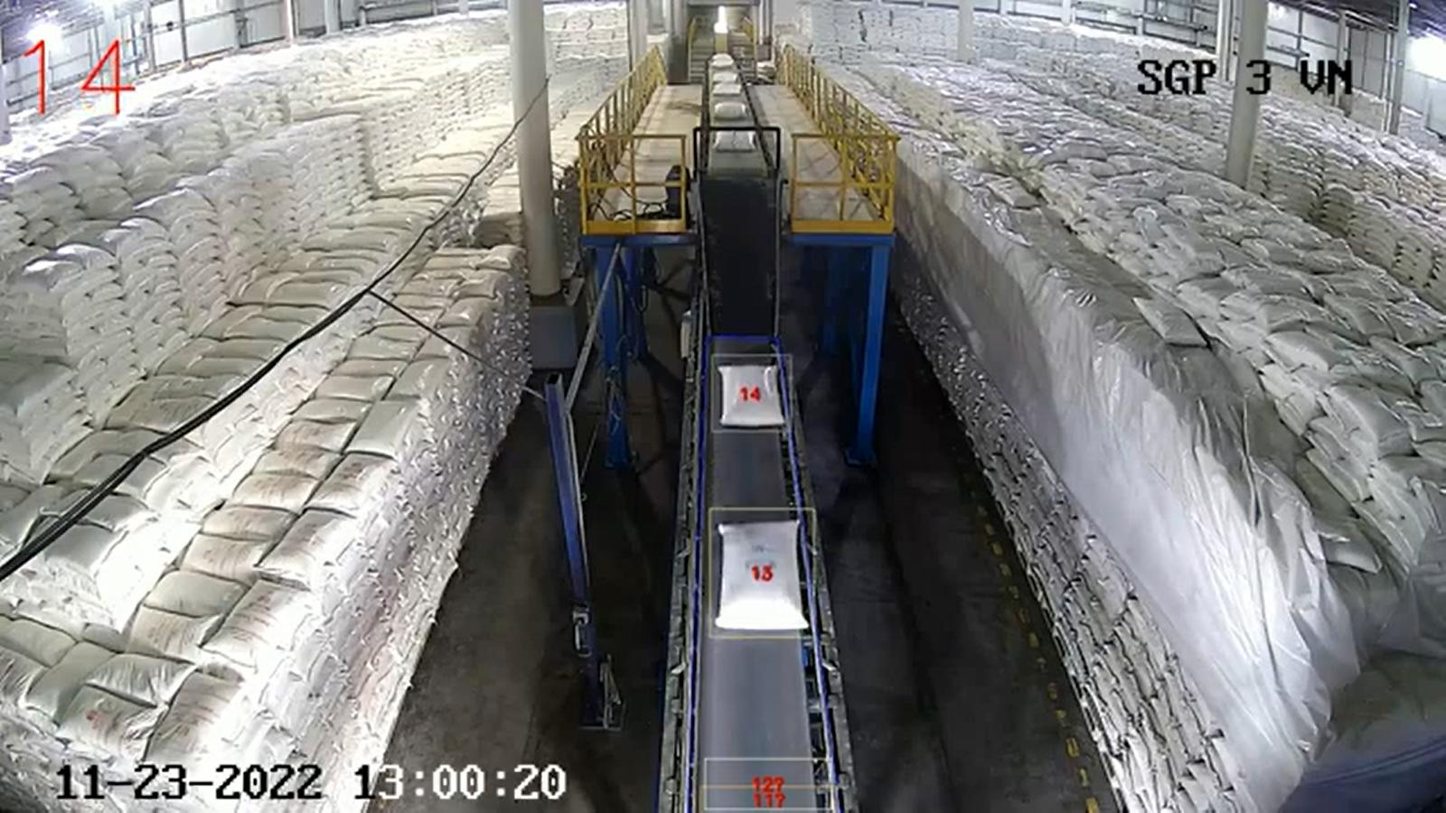rice-bag: (715, 519, 806, 631), (719, 364, 783, 427)
